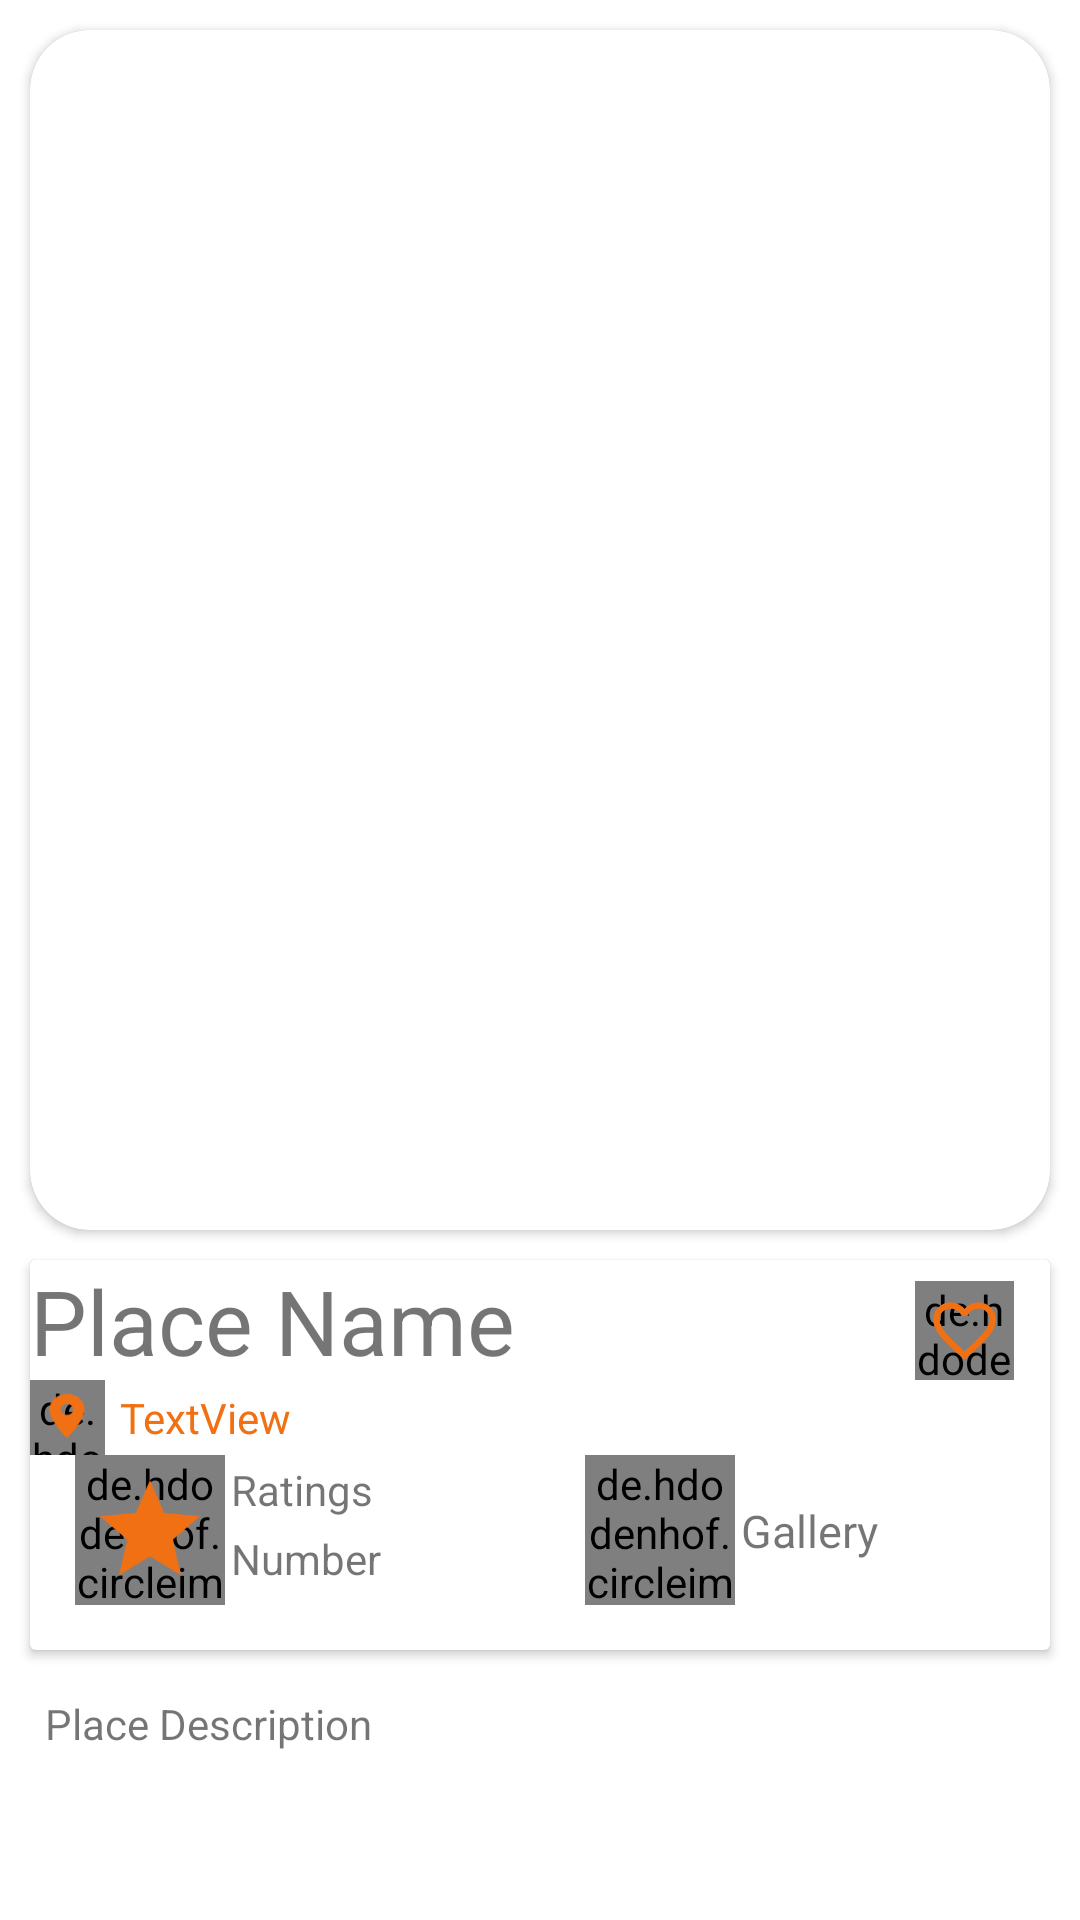

Named icons in this screenshot (1080x1920) and their centers, [x,y]:
location: [67,1415]
unfavourite: [964,1331]
